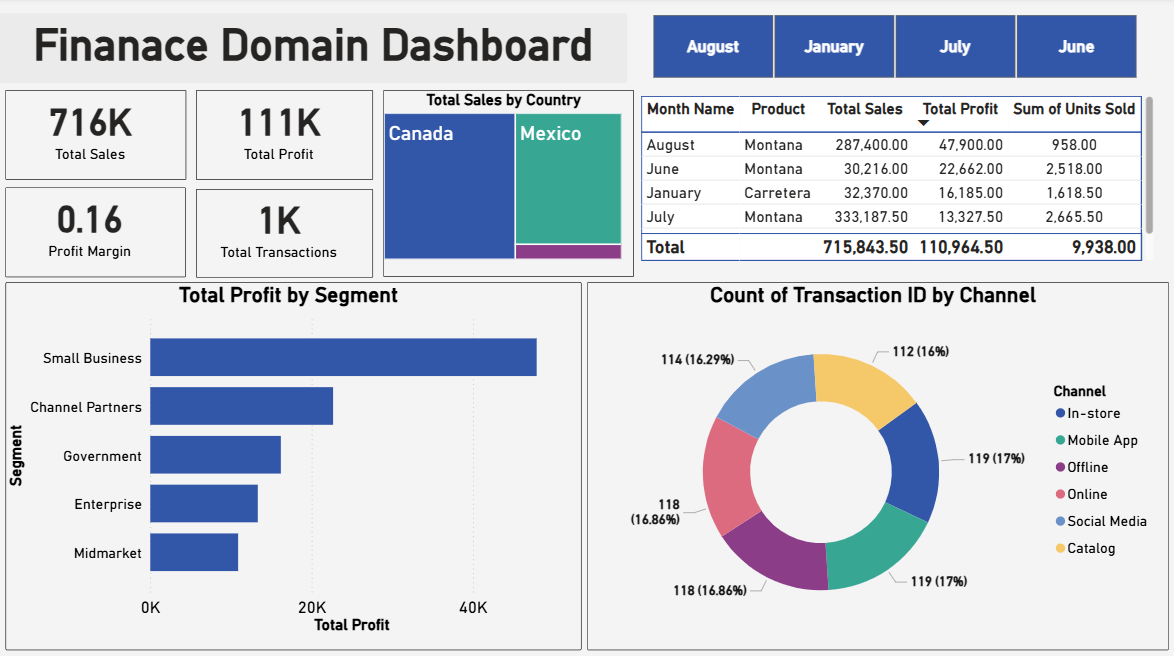

The page's visual inventory and layout, read from the dashboard file:
{"tool":"powerbi","page":{"name":"Page 1","canvas":[1280,720],"ordinal":0},"visuals":[{"type":"card","fields":{"Values":["FinanceTransactions.Total Transactions"]},"box":[215,207.7,192,95.9],"z":0},{"type":"card","fields":{"Values":["Finance Sales Data.Total Profit"]},"box":[215,100.7,192,97.5],"z":1000},{"type":"card","fields":{"Values":["Finance Sales Data.Profit Margin"]},"box":[8,206.1,195,97.5],"z":2000},{"type":"card","fields":{"Values":["Finance Sales Data.Total Sales"]},"box":[8,100.7,196,97.5],"z":3000},{"type":"slicer","fields":{"Values":["Finance Sales Data.Month Name"]},"box":[689.7,17.9,575.8,89.5],"z":4000},{"type":"treemap","fields":{"Group":["Finance Sales Data.Country"],"Values":["Finance Sales Data.Total Sales"]},"box":[417.2,101.3,271.4,202.5],"z":5000},{"type":"clusteredBarChart","fields":{"Category":["Finance Sales Data.Segment"],"Y":["Finance Sales Data.Total Profit"]},"box":[8,308.4,624.7,399.4],"z":6000},{"type":"tableEx","fields":{"Values":["Finance Sales Data.Month Name","Finance Sales Data.Product","Finance Sales Data.Total Sales","Finance Sales Data.Total Profit","Sum(Finance Sales Data.Units Sold)"]},"box":[696.6,107,568.8,196.5],"z":7000},{"type":"donutChart","fields":{"Category":["FinanceTransactions.Channel"],"Y":["CountNonNull(FinanceTransactions.Transaction ID)"]},"box":[640,308.4,630,399.4],"z":8000},{"type":"textbox","box":[1.6,17.6,680.6,75.1],"z":9000}]}

Visuals, with their boxes in screenshot pixels (x1, y1, x2, y2), scaled from the page's 1280x720 canvas onto the 1174x656 screenshot:
card - FinanceTransactions.Total Transactions: crop(197, 189, 373, 277)
card - Finance Sales Data.Total Profit: crop(197, 92, 373, 181)
card - Finance Sales Data.Profit Margin: crop(7, 188, 186, 277)
card - Finance Sales Data.Total Sales: crop(7, 92, 187, 181)
slicer - Finance Sales Data.Month Name: crop(633, 16, 1161, 98)
treemap - Finance Sales Data.Country x Finance Sales Data.Total Sales: crop(383, 92, 632, 277)
clusteredBarChart - Finance Sales Data.Segment x Finance Sales Data.Total Profit: crop(7, 281, 580, 645)
tableEx - Finance Sales Data.Month Name x Finance Sales Data.Product: crop(639, 97, 1161, 277)
donutChart - FinanceTransactions.Channel x CountNonNull(FinanceTransactions.Transaction ID): crop(587, 281, 1165, 645)
textbox: crop(1, 16, 626, 84)
